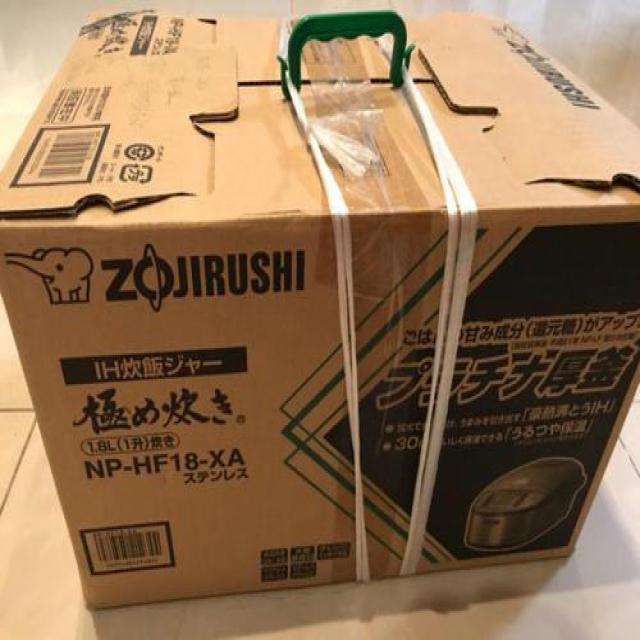cardboard: (1, 6, 640, 613)
